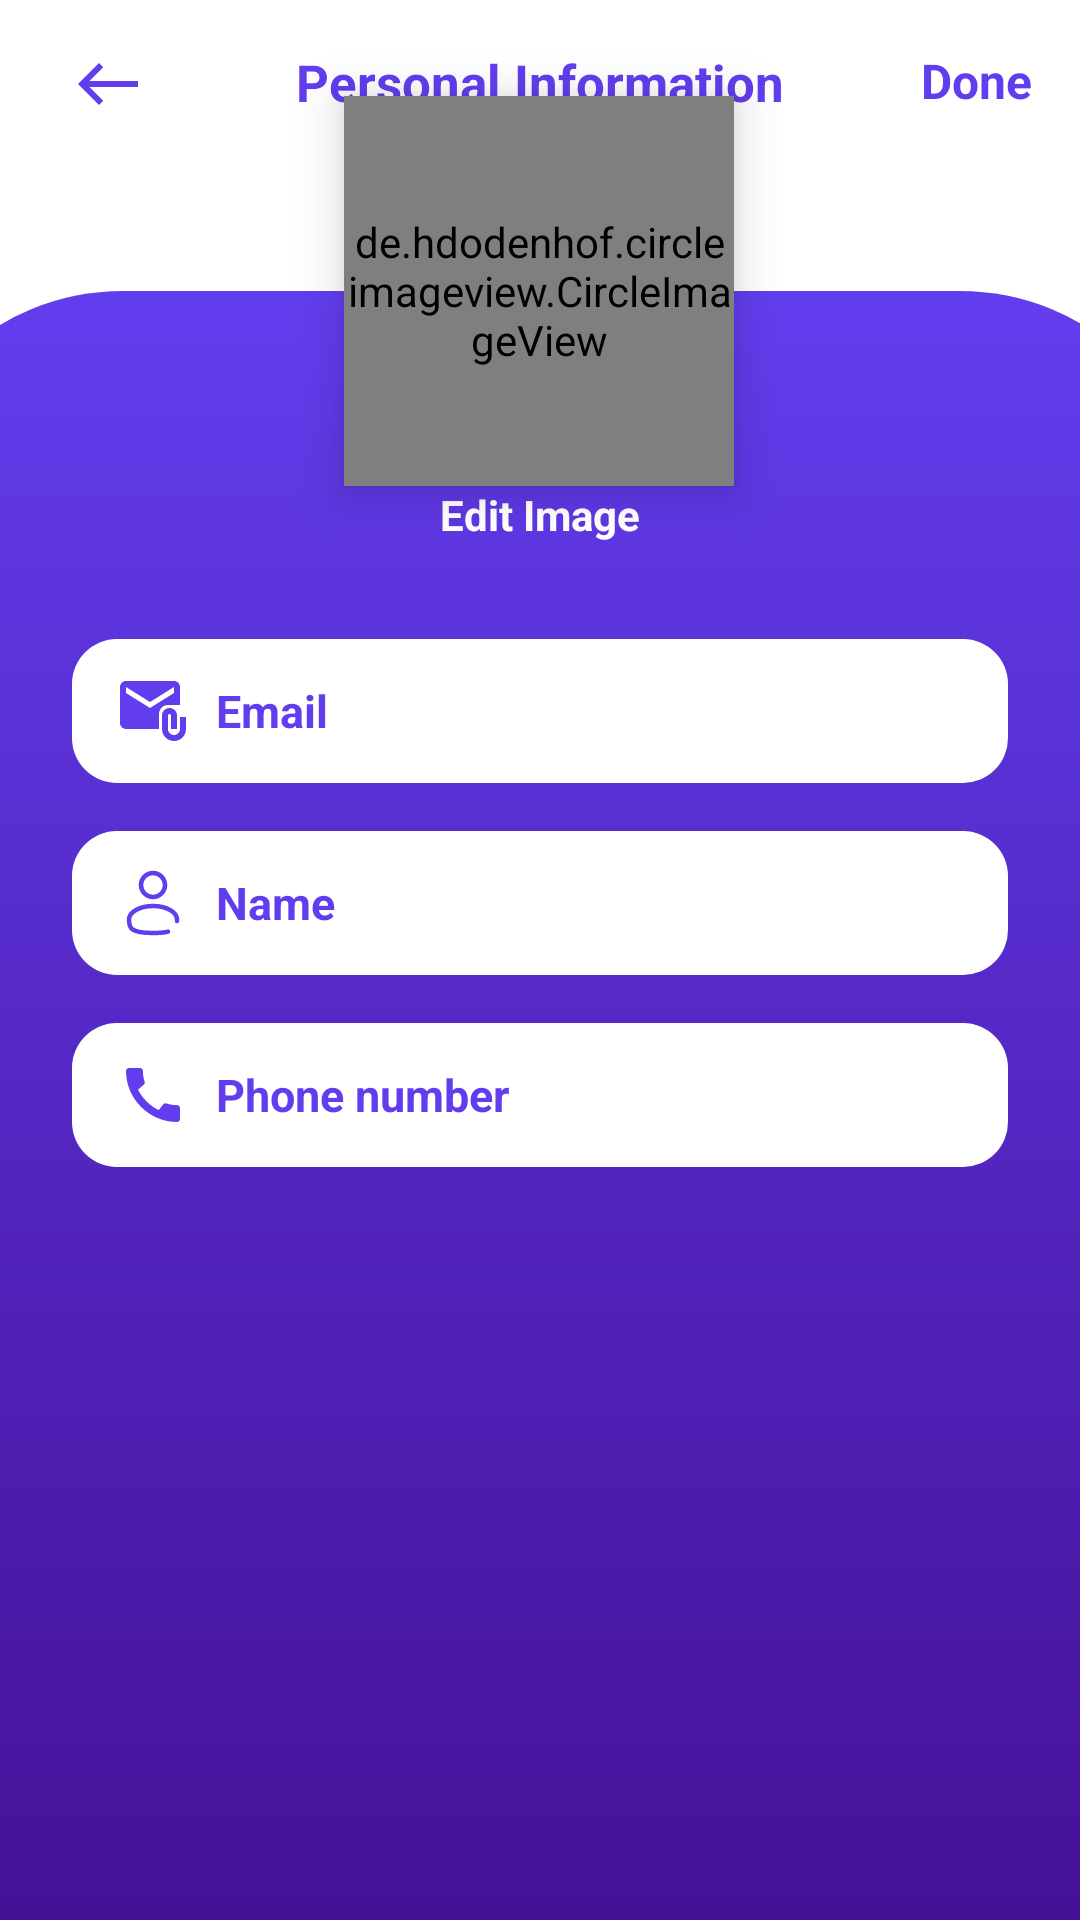

Screen size 1080x1920. Icon name, then its center in pixels as [x,y]:
west: [108,84]
